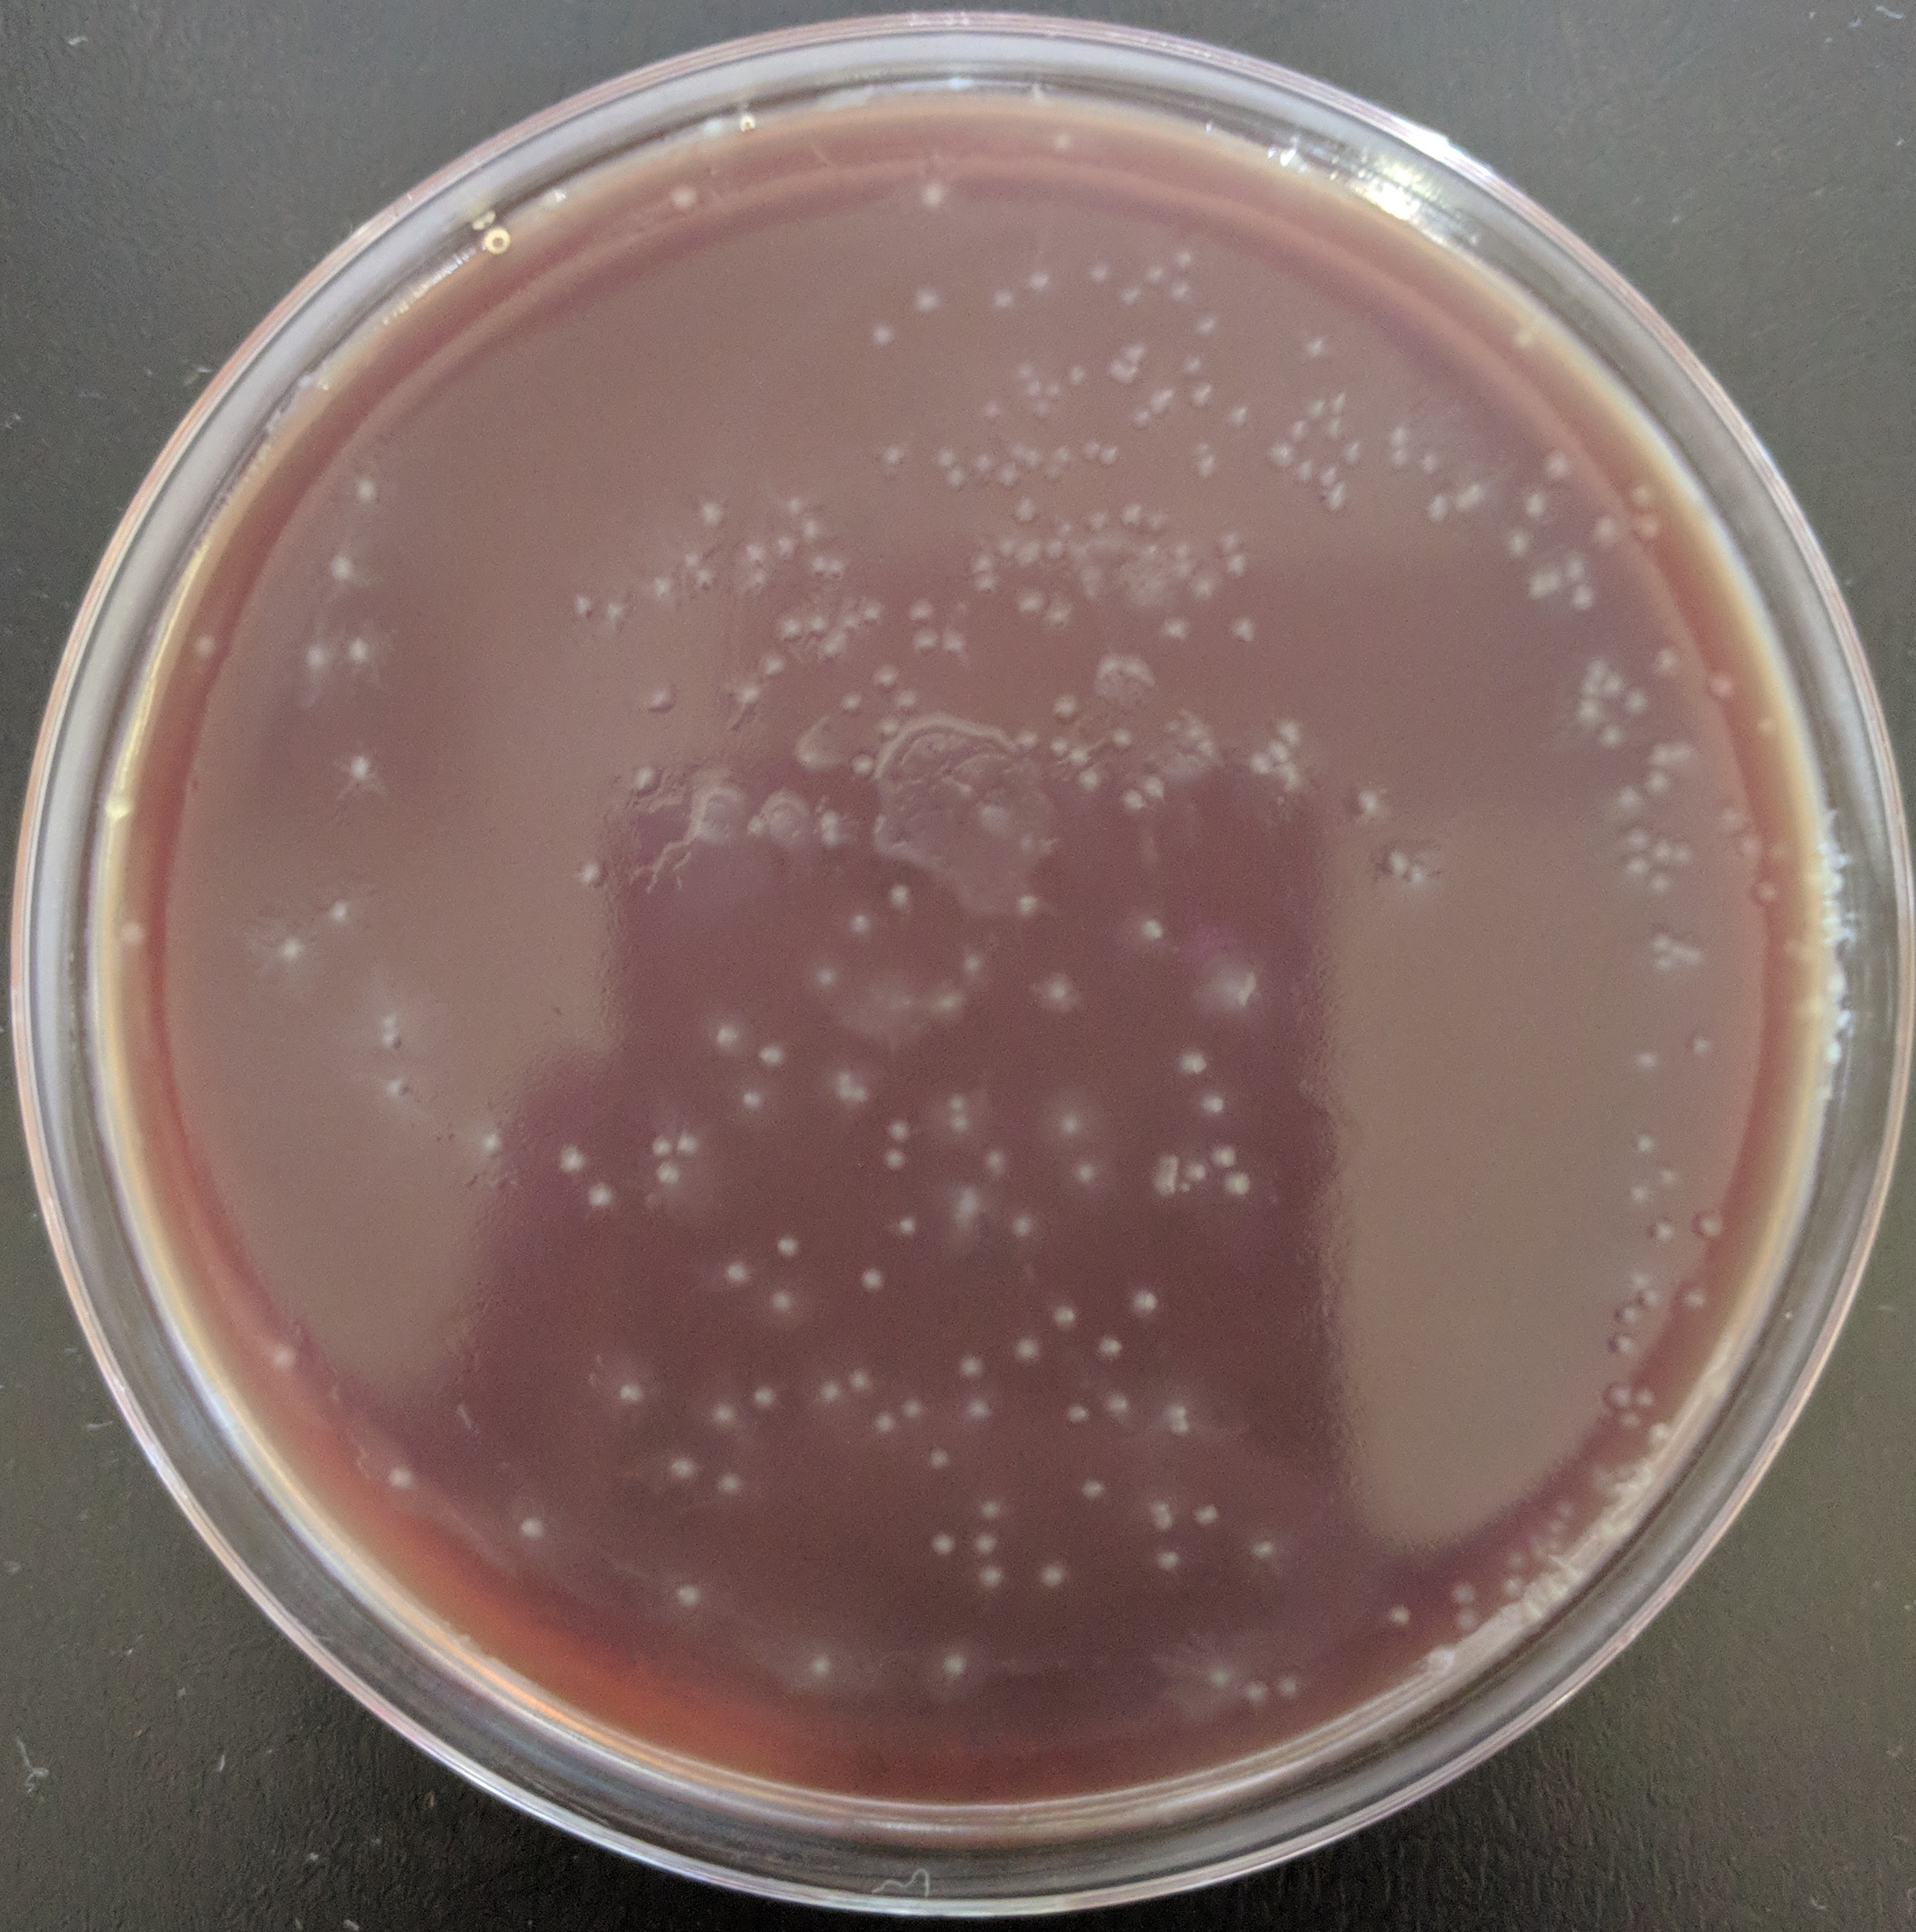sp06: (89, 763, 146, 842), (784, 509, 844, 558), (339, 749, 386, 804), (1583, 509, 1628, 562), (1644, 639, 1691, 686), (579, 1174, 628, 1220), (909, 172, 958, 216), (633, 676, 686, 716), (667, 1574, 712, 1620), (1686, 1199, 1734, 1242), (263, 1334, 309, 1377), (1702, 663, 1744, 711), (1746, 876, 1795, 916), (1116, 1288, 1165, 1328), (565, 858, 614, 898), (1035, 970, 1079, 1014), (1007, 486, 1049, 532), (1605, 777, 1648, 823), (802, 1646, 847, 1688), (933, 616, 974, 663), (507, 1507, 554, 1548), (321, 546, 368, 586), (1146, 1148, 1181, 1202), (623, 762, 665, 805), (707, 1016, 751, 1058), (295, 637, 337, 681), (1170, 1046, 1216, 1086), (688, 493, 735, 532), (1625, 474, 1665, 518), (1595, 1377, 1639, 1418), (921, 1523, 965, 1563), (344, 470, 384, 514), (904, 281, 949, 319), (607, 1370, 653, 1409), (1100, 354, 1149, 390), (709, 1467, 758, 1502), (1040, 128, 1083, 168), (1500, 525, 1542, 565), (1563, 581, 1604, 623), (1269, 1667, 1312, 1706), (1047, 1106, 1093, 1142), (1105, 721, 1142, 767), (1255, 732, 1300, 769), (933, 1646, 979, 1683), (904, 623, 944, 663), (763, 532, 805, 570), (1065, 758, 1107, 797), (1269, 712, 1311, 751), (918, 1439, 960, 1478), (725, 1253, 763, 1295), (114, 914, 156, 953), (1007, 1334, 1051, 1370), (656, 1451, 700, 1488), (763, 1284, 807, 1321), (1044, 686, 1083, 726), (869, 316, 905, 358), (1321, 470, 1358, 512), (381, 1455, 418, 1497), (965, 1528, 1007, 1565), (1205, 1137, 1244, 1176), (976, 1558, 1014, 1597), (872, 437, 909, 477), (1011, 725, 1051, 762), (1242, 746, 1283, 783), (1541, 447, 1581, 484), (1511, 484, 1551, 521), (1372, 844, 1412, 881), (1648, 1207, 1684, 1248), (1093, 1332, 1133, 1369), (754, 1039, 795, 1076), (337, 635, 377, 672), (883, 876, 918, 918), (1669, 937, 1707, 974), (1011, 581, 1047, 619), (832, 681, 869, 719), (1630, 511, 1669, 547), (958, 1390, 997, 1427), (856, 1260, 895, 1297), (272, 930, 311, 967), (1190, 305, 1225, 346), (1032, 1558, 1072, 1593), (749, 1379, 790, 1414), (990, 453, 1023, 495), (1111, 786, 1153, 819), (1053, 1400, 1097, 1432), (1239, 1672, 1276, 1709), (863, 1404, 900, 1441), (977, 1144, 1014, 1181), (1191, 565, 1226, 604), (1181, 376, 1216, 414), (1167, 239, 1202, 277), (597, 597, 635, 632), (846, 746, 881, 784), (1560, 549, 1595, 588), (1637, 763, 1672, 802), (1644, 863, 1679, 902), (707, 1395, 746, 1430), (667, 1125, 702, 1163), (1012, 888, 1047, 927), (726, 540, 767, 574), (1491, 1571, 1532, 1604), (663, 182, 705, 214), (1672, 1281, 1714, 1313), (1070, 1476, 1112, 1507), (733, 683, 770, 718), (644, 570, 681, 605), (1569, 690, 1604, 726), (1716, 800, 1753, 835), (1628, 1125, 1663, 1162), (1219, 1169, 1256, 1204), (551, 1139, 588, 1174), (770, 1230, 805, 1267), (844, 905, 879, 942), (321, 893, 358, 928), (1212, 526, 1251, 560), (811, 1374, 849, 1407), (1042, 1299, 1083, 1330), (1223, 612, 1263, 644), (1342, 783, 1383, 814), (1591, 721, 1632, 753), (1093, 1386, 1133, 1418), (1188, 1500, 1230, 1530), (972, 1493, 1007, 1528), (844, 1360, 879, 1395), (937, 467, 974, 500), (1147, 384, 1181, 421), (1165, 277, 1202, 311), (1453, 476, 1486, 512), (869, 660, 905, 693), (1140, 769, 1177, 802), (1642, 733, 1676, 770), (1618, 849, 1651, 886), (1642, 925, 1679, 958), (1684, 1030, 1721, 1063), (1130, 914, 1167, 948), (1004, 1209, 1040, 1242), (754, 651, 793, 683), (1249, 1534, 1288, 1565), (1446, 1576, 1484, 1607), (877, 1146, 916, 1177), (805, 962, 844, 993), (1221, 553, 1262, 583), (1732, 823, 1762, 863), (1019, 265, 1055, 298), (1062, 354, 1095, 390), (874, 711, 907, 746), (883, 1113, 918, 1146), (1112, 502, 1149, 533), (1012, 539, 1049, 570), (965, 546, 1002, 577), (770, 612, 807, 644), (1067, 1155, 1104, 1186), (1642, 1416, 1679, 1448), (958, 1348, 990, 1385), (1381, 421, 1419, 451), (1421, 486, 1451, 525), (1604, 1328, 1642, 1358), (893, 1393, 932, 1423), (902, 595, 942, 623), (1191, 451, 1223, 486), (1263, 439, 1298, 470), (1751, 711, 1786, 742), (1653, 1162, 1688, 1193), (1383, 1599, 1418, 1630), (382, 1074, 418, 1106), (1625, 1042, 1662, 1072), (890, 1211, 926, 1241), (1147, 1546, 1186, 1574), (821, 555, 853, 588), (1579, 656, 1611, 690), (477, 1128, 511, 1160), (1621, 683, 1651, 718), (1625, 821, 1655, 856), (1632, 1283, 1662, 1318), (891, 686, 928, 714), (1195, 1088, 1232, 1116), (1040, 535, 1072, 567), (739, 1084, 770, 1116), (1125, 405, 1158, 435), (1112, 274, 1142, 307), (1383, 440, 1412, 474), (1162, 612, 1191, 646), (1063, 739, 1097, 769), (974, 395, 1009, 423), (684, 567, 719, 595), (1451, 1607, 1486, 1635), (191, 637, 226, 665), (965, 569, 1002, 595), (1076, 432, 1100, 470), (930, 440, 962, 470), (965, 449, 995, 481), (1095, 440, 1126, 470), (1177, 353, 1207, 384), (1114, 333, 1146, 363), (1414, 447, 1446, 477), (800, 605, 832, 635), (1046, 730, 1076, 762), (1607, 1297, 1639, 1327), (1204, 1662, 1233, 1693), (988, 283, 1016, 316), (1221, 400, 1249, 433), (1340, 437, 1369, 470), (1142, 512, 1176, 540), (986, 533, 1019, 562), (1597, 676, 1630, 704), (818, 825, 853, 851), (649, 1160, 684, 1186), (647, 1128, 674, 1163), (949, 949, 986, 974), (1032, 397, 1062, 426), (1049, 595, 1077, 626), (1284, 416, 1312, 447), (800, 555, 828, 586), (856, 598, 888, 626), (812, 633, 844, 662), (1611, 1406, 1642, 1434), (1319, 409, 1346, 442), (776, 493, 809, 519), (1667, 835, 1693, 869), (811, 804, 846, 828), (1316, 456, 1339, 493), (1023, 376, 1051, 405), (1325, 384, 1353, 414), (1628, 1379, 1658, 1407), (1083, 256, 1109, 288), (1153, 1506, 1179, 1537), (1293, 454, 1316, 490), (568, 593, 597, 621), (1040, 460, 1070, 486), (1047, 444, 1077, 470), (676, 547, 705, 574), (1167, 1416, 1197, 1442), (832, 1084, 863, 1109), (1623, 1179, 1649, 1207), (1186, 435, 1216, 460), (379, 1011, 409, 1035), (379, 1028, 409, 1053), (946, 1114, 977, 1137), (1019, 449, 1044, 477), (1302, 398, 1330, 423), (946, 1088, 970, 1116), (1648, 835, 1670, 865), (1179, 1158, 1209, 1181), (1158, 1399, 1193, 1418), (1144, 260, 1169, 286), (1083, 505, 1107, 532), (1649, 953, 1676, 977), (849, 1081, 876, 1106), (1146, 1495, 1179, 1514), (1014, 358, 1037, 384), (1004, 440, 1028, 463), (1307, 335, 1328, 360), (1042, 379, 1065, 400), (833, 1063, 856, 1083), (1174, 1177, 1190, 1195)
